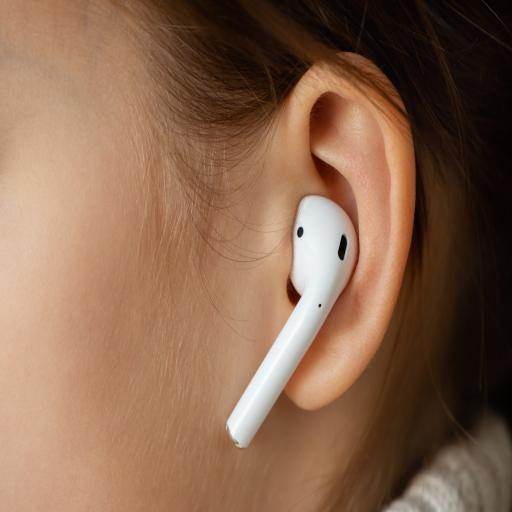earphone: (216, 170, 368, 456)
